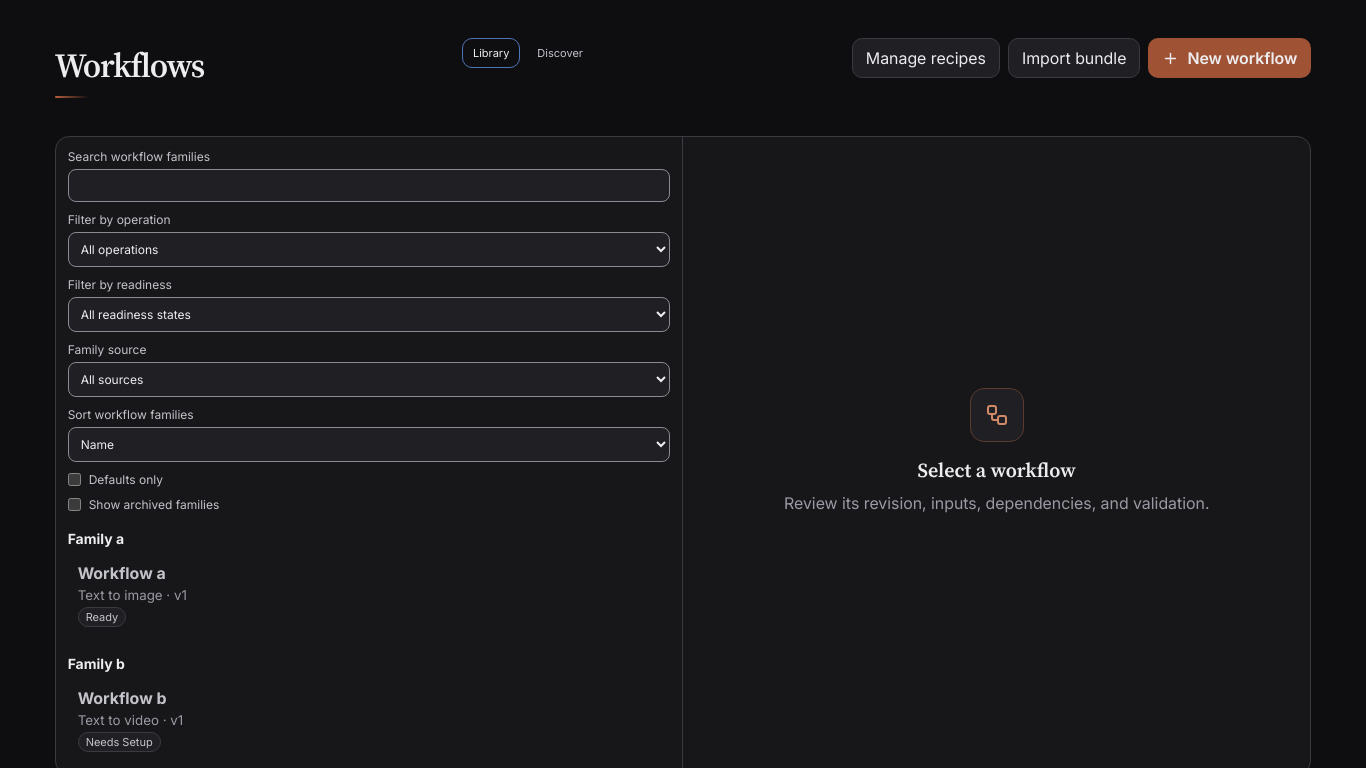
it: browsing workflow families › filters by operation, readiness and defaults using the actual variant facts
Expected: the heading "Family a" is shown, [68,530,124,547]
Expected: the text "Ready" is shown, [78,607,126,627]
Select "Text to video" in the dropdown labelled "Filter by operation" at (369, 250), box [68,232,670,267]
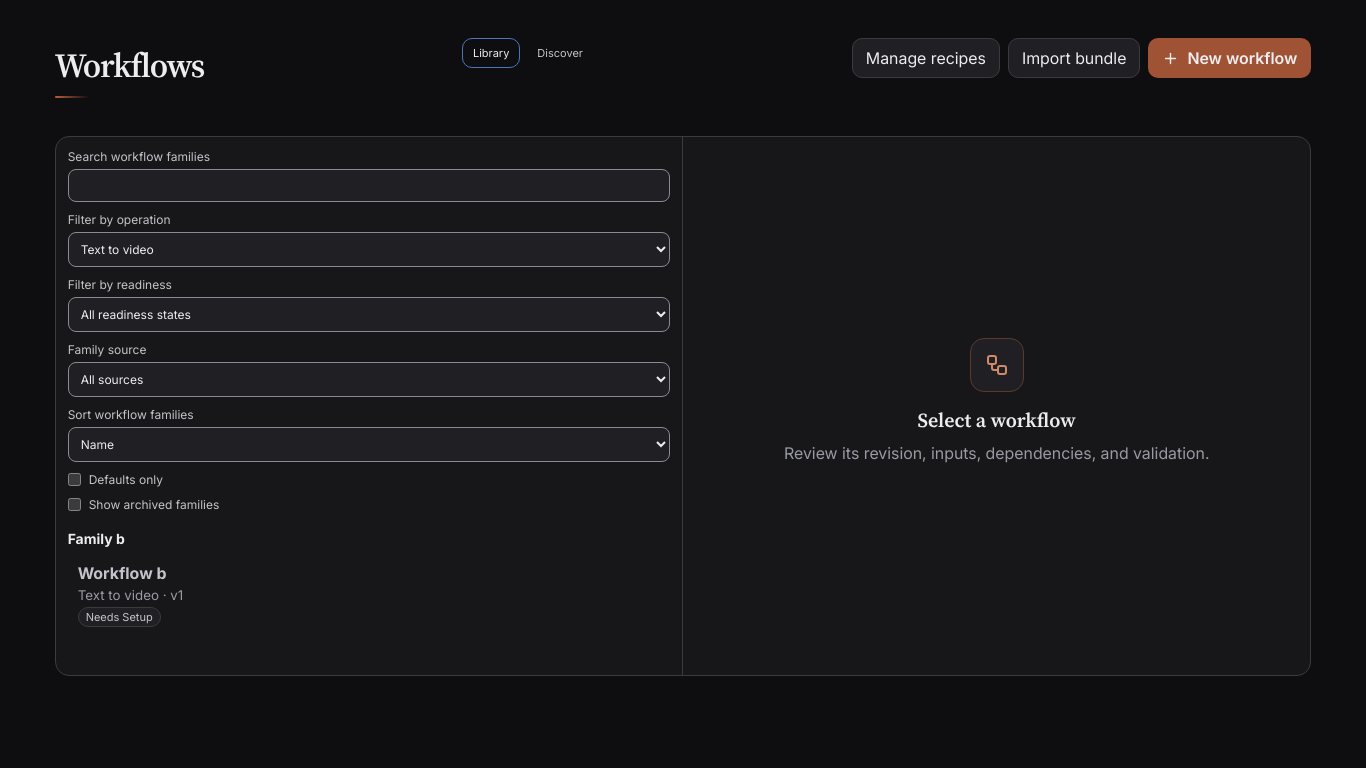
Expected: the heading "Family b" is shown, [68,530,125,547]
Expected: the heading "Family a" is gone
Select "All operations" in the dropdown labelled "Filter by operation" at (369, 250), box [68,232,670,267]
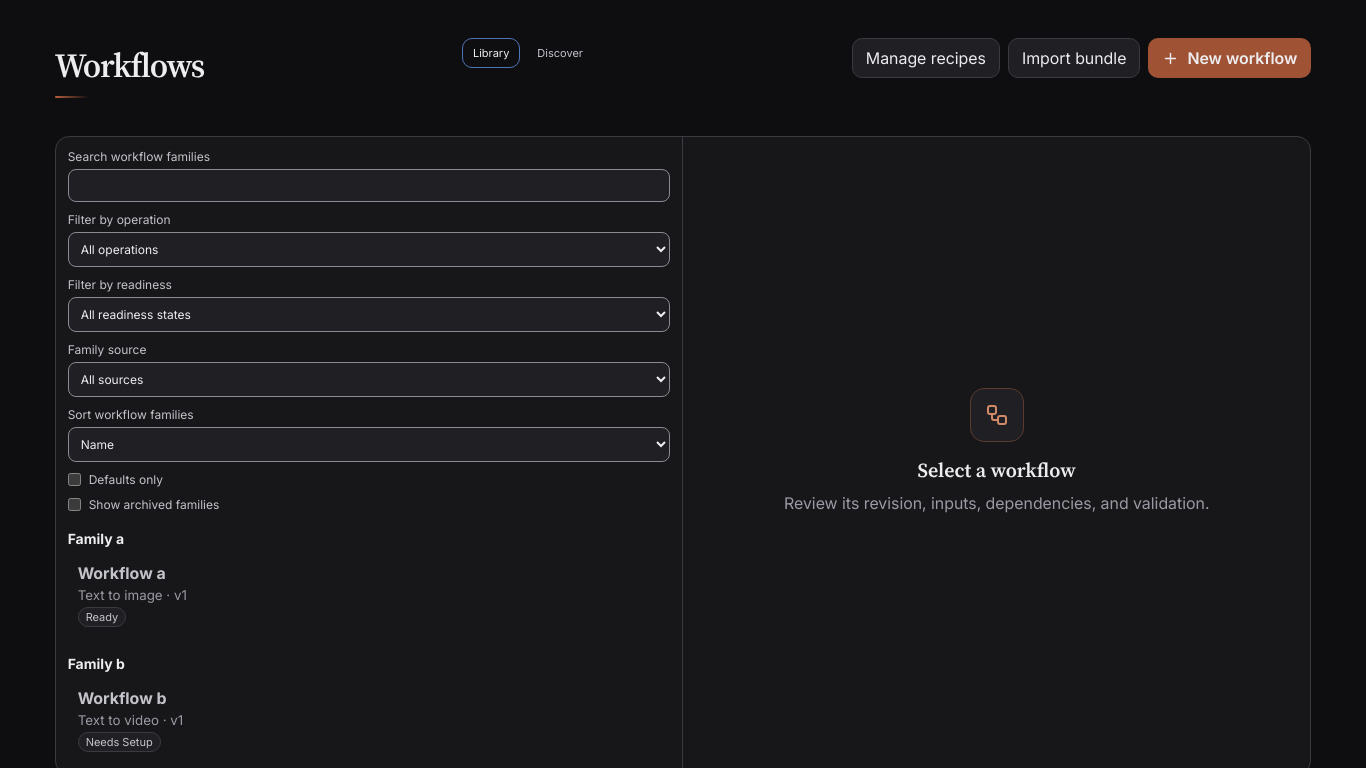
Select "Ready" in the dropdown labelled "Filter by readiness" at (369, 314), box [68,297,670,332]
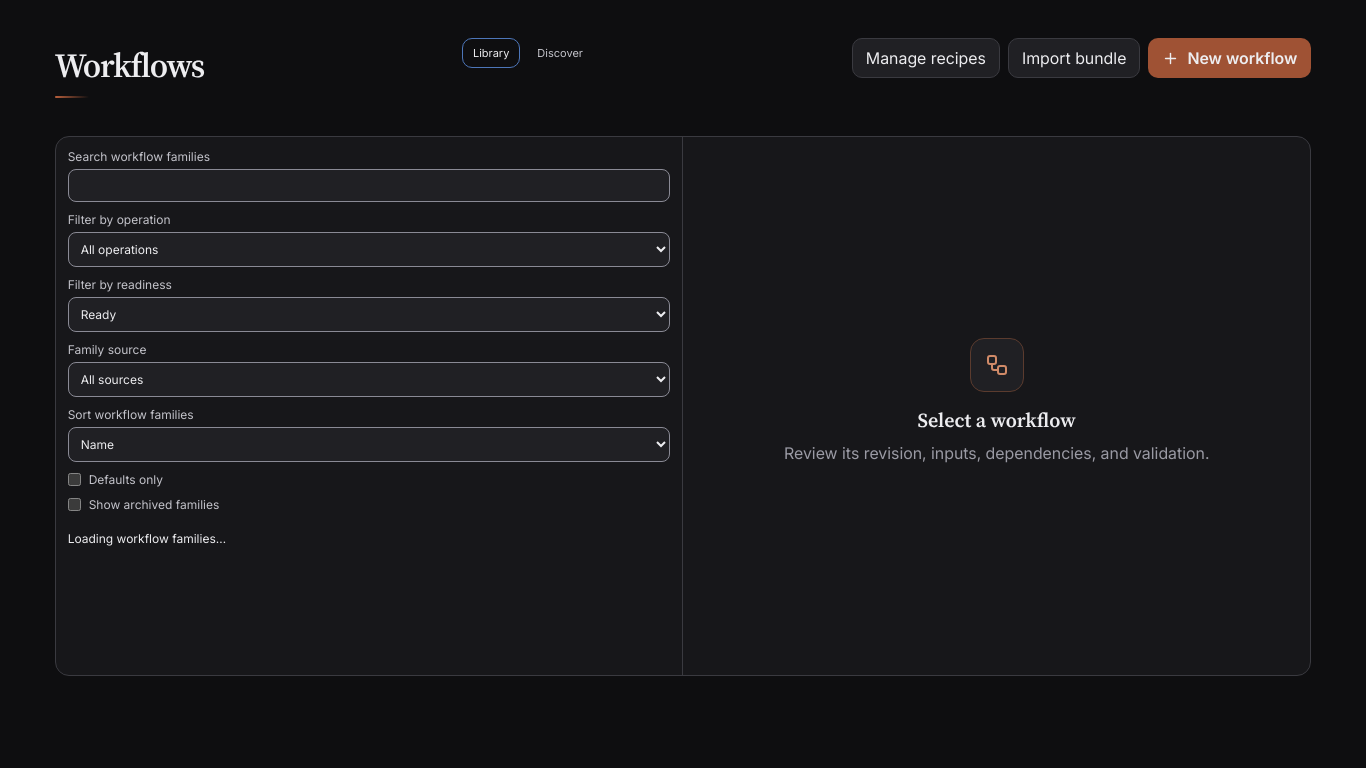
Expected: the heading "Family b" is gone
Select "All readiness states" in the dropdown labelled "Filter by readiness" at (369, 314), box [68,297,670,332]
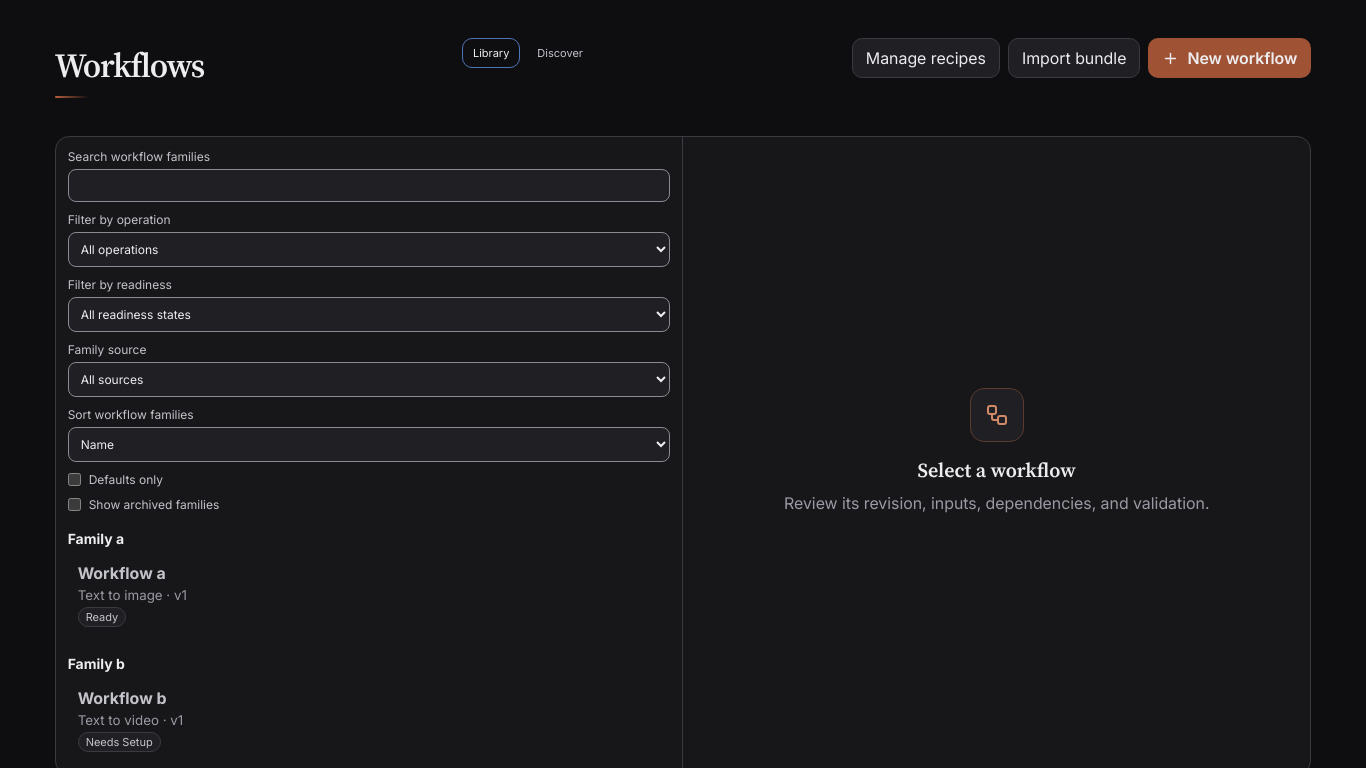
Click the checkbox labelled "Defaults only" at (74, 480), box [68,473,81,486]
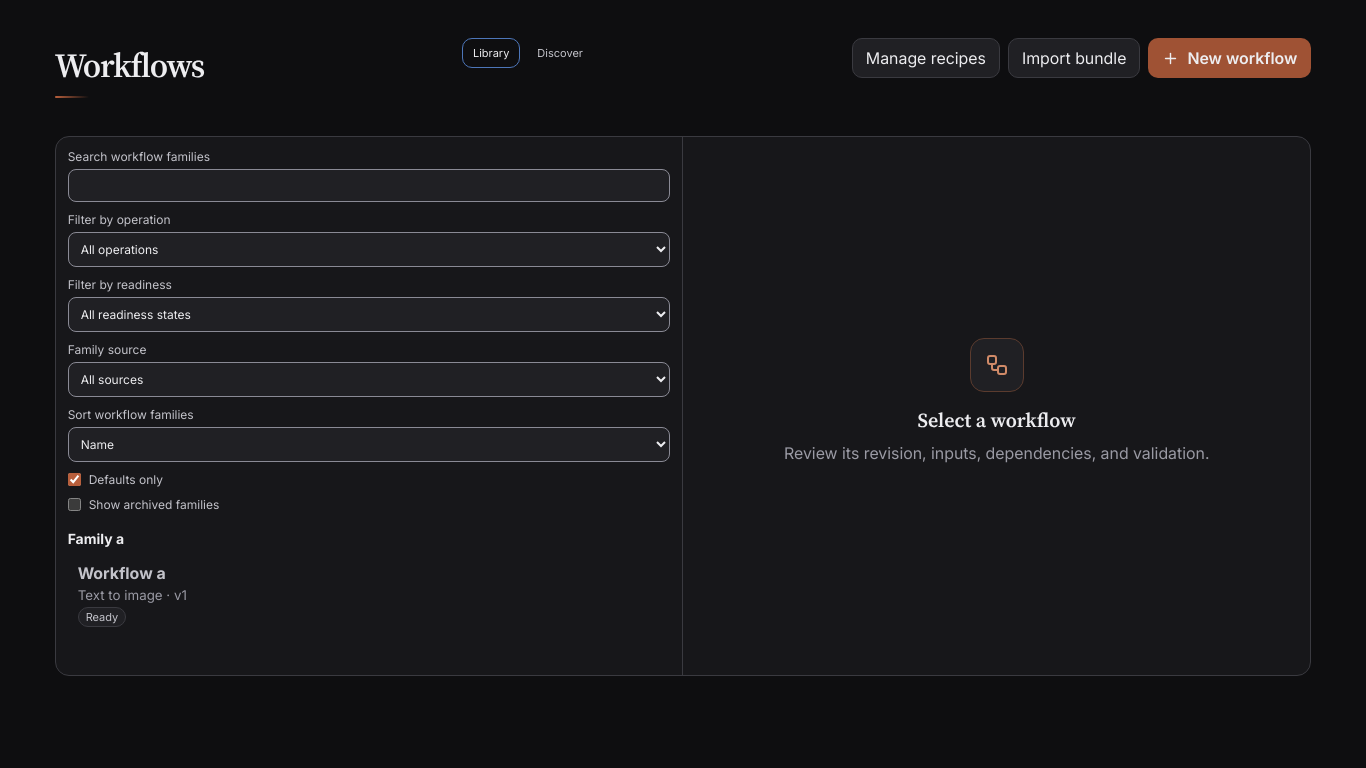
Expected: the heading "Family a" is shown, [68,530,124,547]
Expected: the heading "Family b" is gone
